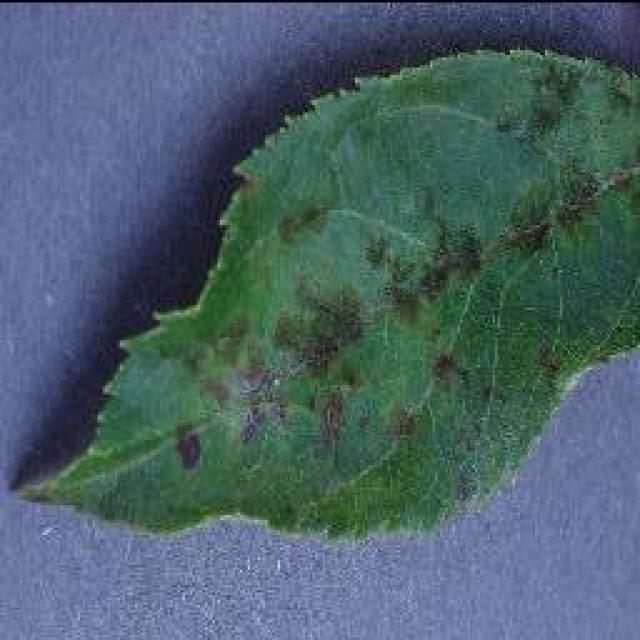apple scab disease: (18, 43, 638, 545)
